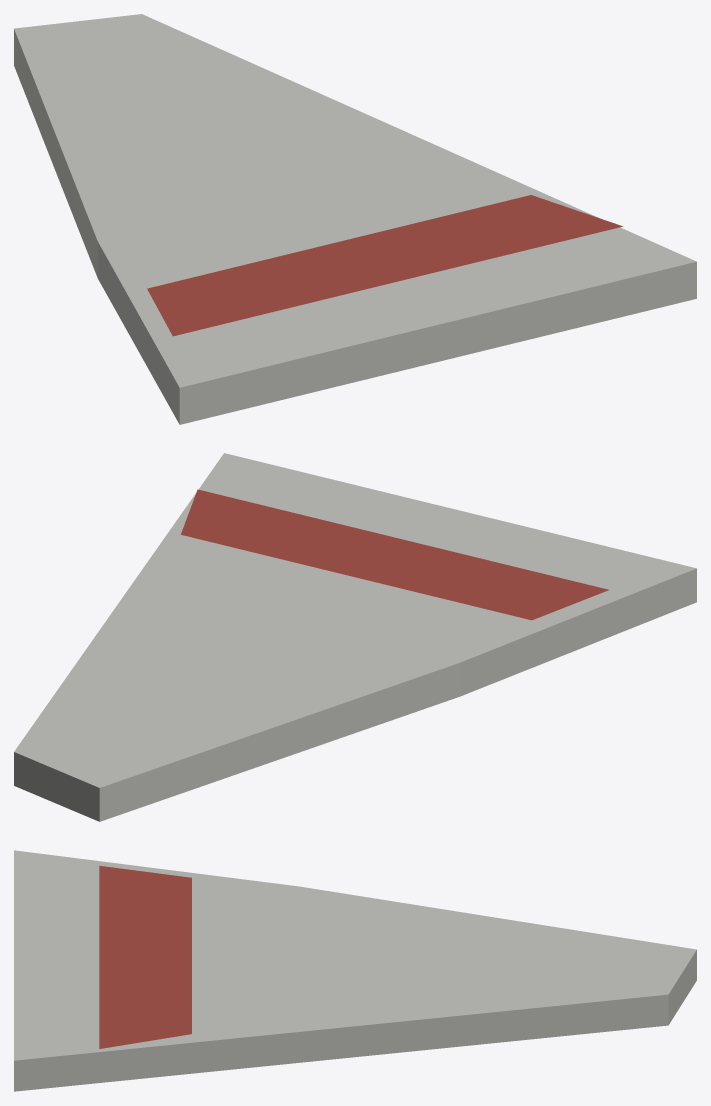
The model's file is Tail_Fin_Detached.glb.
3 views of the same model, one above another, from view 1: azimuth 30°, elevation 25°; view 2: azimuth 150°, elevation 25°; view 3: azimuth 270°, elevation 25° (orthographic). The views are drawn at different scales.
Parts seen in each view (by area): view 1: Tail_Fin_Detached; view 2: Tail_Fin_Detached; view 3: Tail_Fin_Detached.
Part boxes in pixels (bbox=[...]): Tail_Fin_Detached: bbox=[14, 14, 696, 424]; Tail_Fin_Detached: bbox=[14, 453, 696, 821]; Tail_Fin_Detached: bbox=[14, 850, 696, 1091].
Size of the model in its own units: 3.5 by 0.26 by 4.8.
